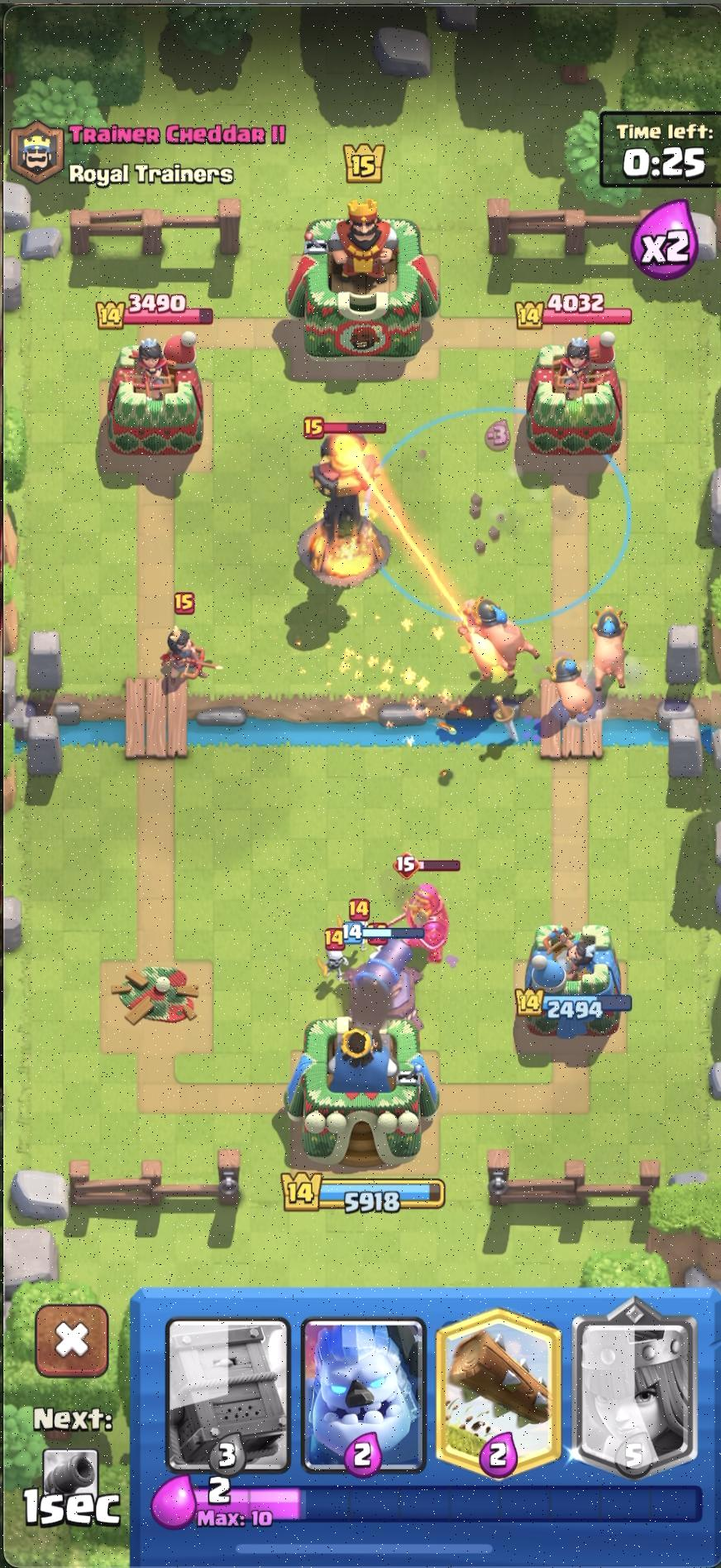card_archerqueen: (571, 1294, 702, 1481)
card_cannon: (20, 1443, 132, 1531)
card_icegolem: (298, 1314, 428, 1478)
card_log: (430, 1306, 560, 1482)
card_royaldelivery: (163, 1314, 294, 1475)
